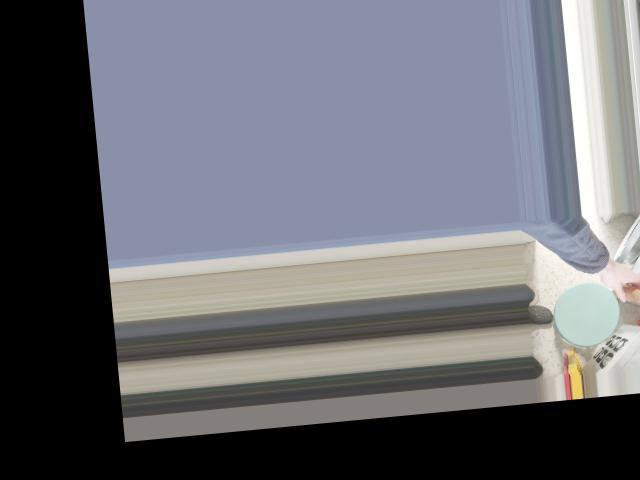sweet_potato: (601, 273, 640, 306)
